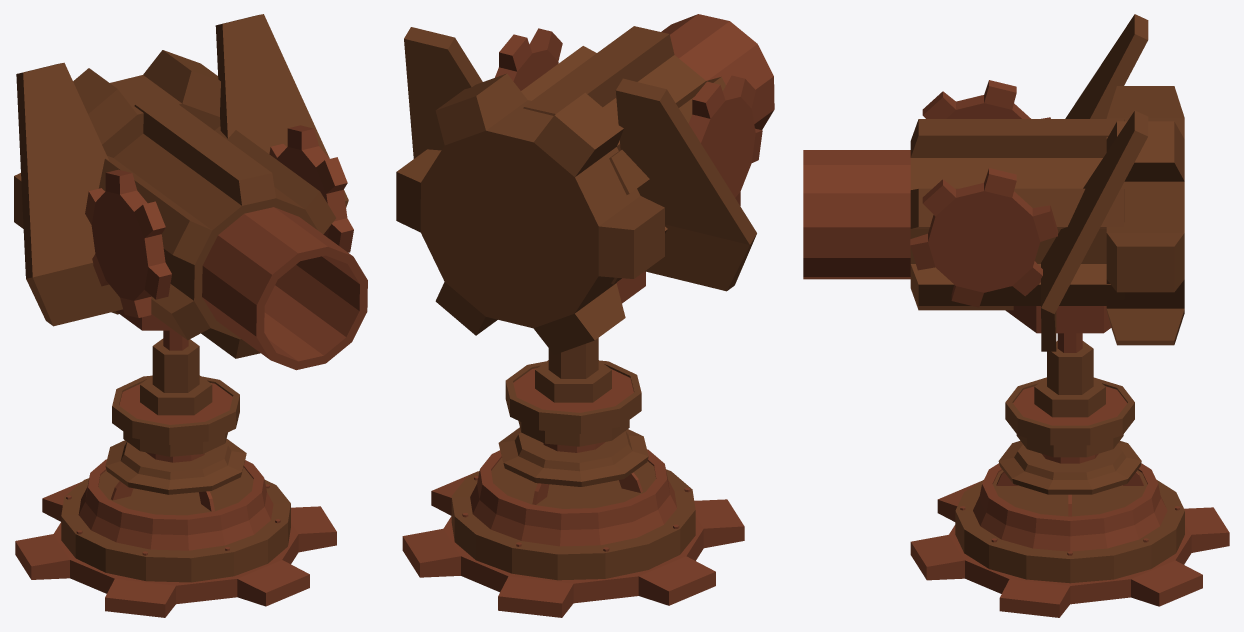
The model's file is Cannon_2.glb.
3 renders of one model, left to right at view 1: azimuth 30°, elevation 25°; view 2: azimuth 150°, elevation 25°; view 3: azimuth 270°, elevation 25°, orthographic. The views are drawn at different scales.
Visible parts, largest first — view 1: Cannon_2_Gun, Cannon_2_Base, Cannon_2_Mid; view 2: Cannon_2_Gun, Cannon_2_Base, Cannon_2_Mid; view 3: Cannon_2_Gun, Cannon_2_Base, Cannon_2_Mid.
Boxes of the visible parts, x1,y1,x2,y2 form: Cannon_2_Gun: [14, 14, 367, 370]; Cannon_2_Base: [15, 375, 336, 617]; Cannon_2_Mid: [140, 330, 212, 415]; Cannon_2_Gun: [396, 14, 774, 354]; Cannon_2_Base: [402, 360, 744, 617]; Cannon_2_Mid: [535, 338, 611, 402]; Cannon_2_Gun: [803, 14, 1184, 351]; Cannon_2_Base: [910, 377, 1229, 617]; Cannon_2_Mid: [1034, 333, 1105, 417].
Bounding box in the file's own units: 1.56 × 2.29 × 1.84.
